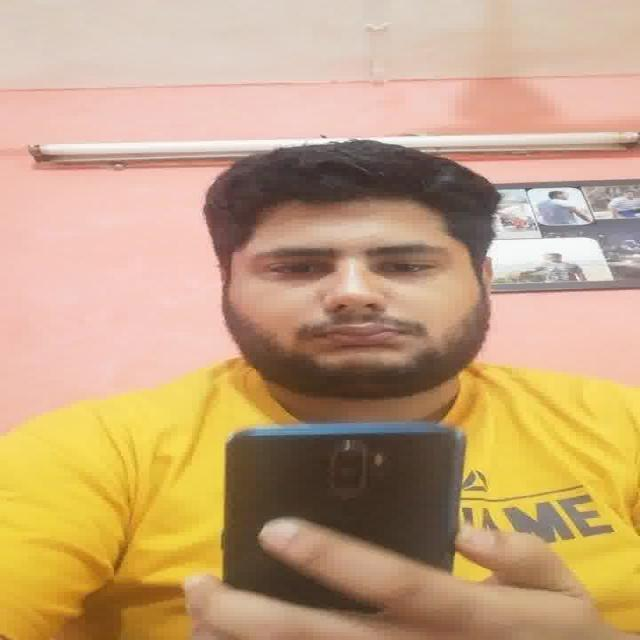phone: (210, 412, 460, 606)
